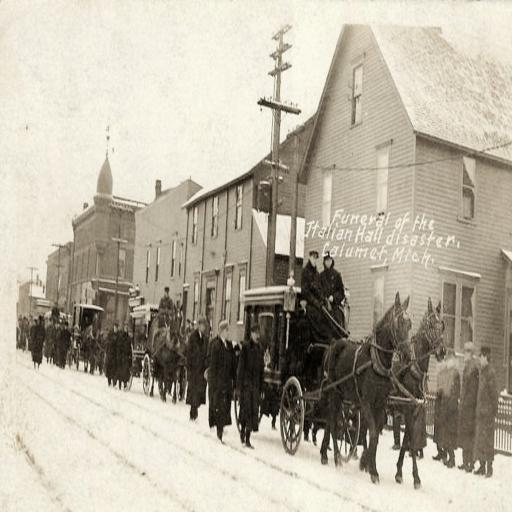horse: (320, 292, 412, 484), (359, 294, 447, 488), (149, 302, 185, 404), (80, 310, 100, 376)
